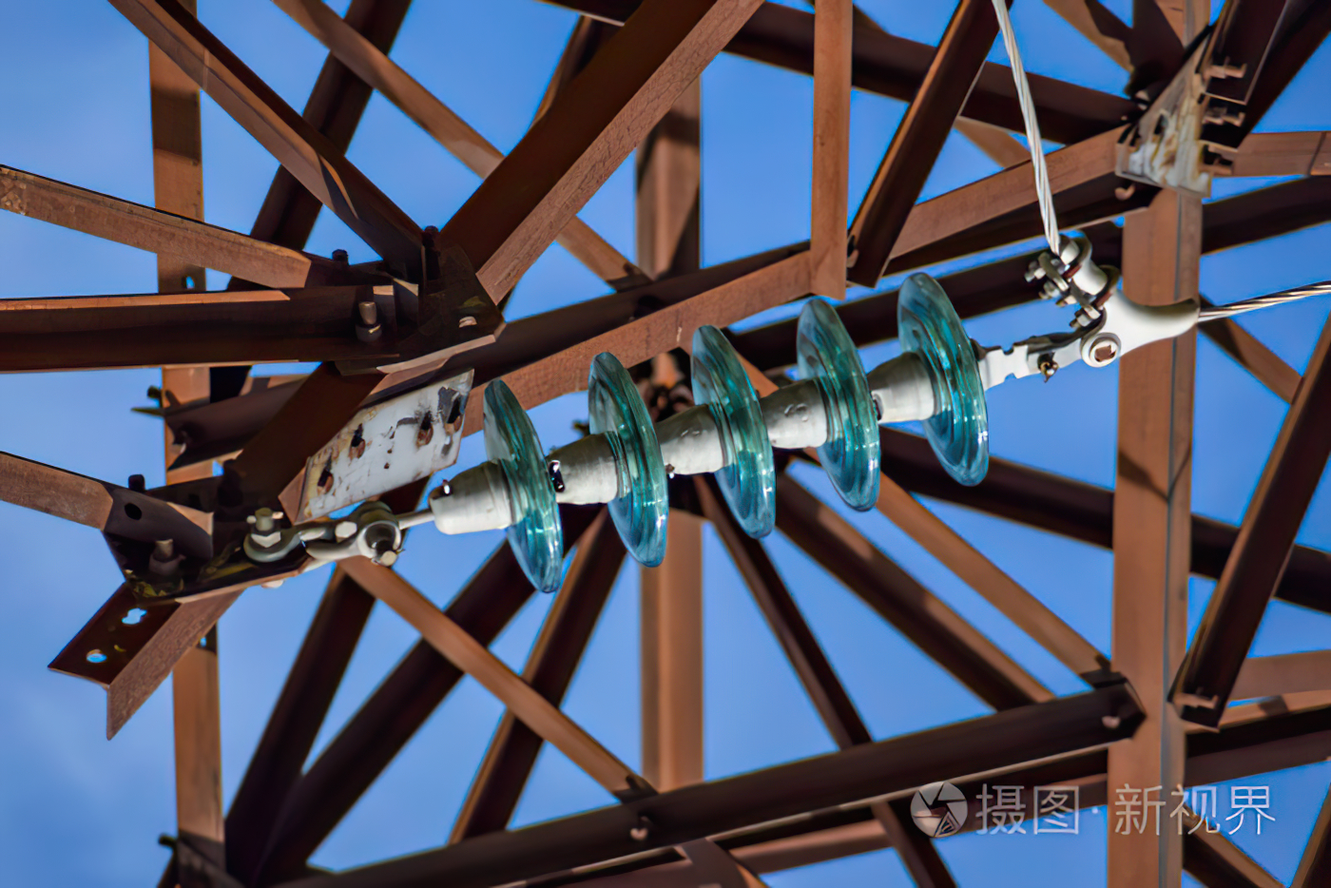insulator: (479, 270, 992, 594)
